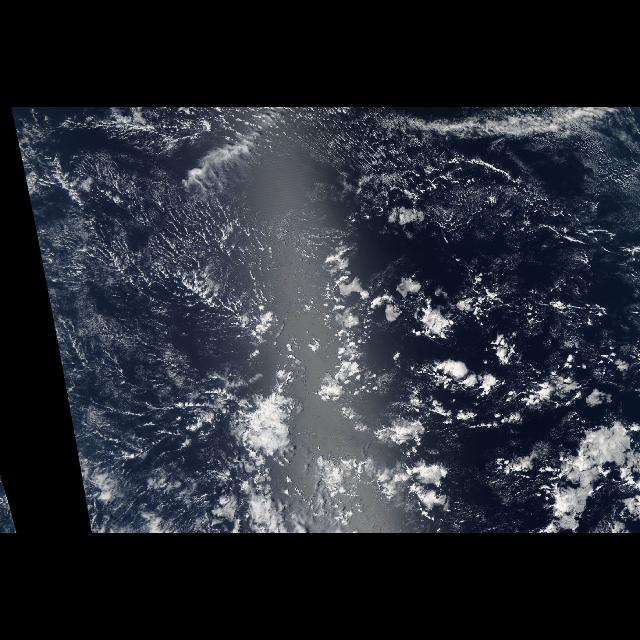Flower: (330, 258, 634, 526), (180, 356, 304, 466)
Gravel: (306, 134, 494, 198)
Sugar: (22, 112, 334, 512)
